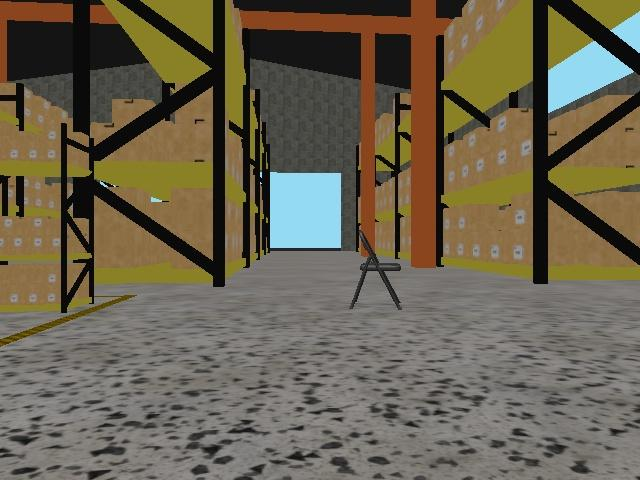chair: (349, 229, 404, 311)
